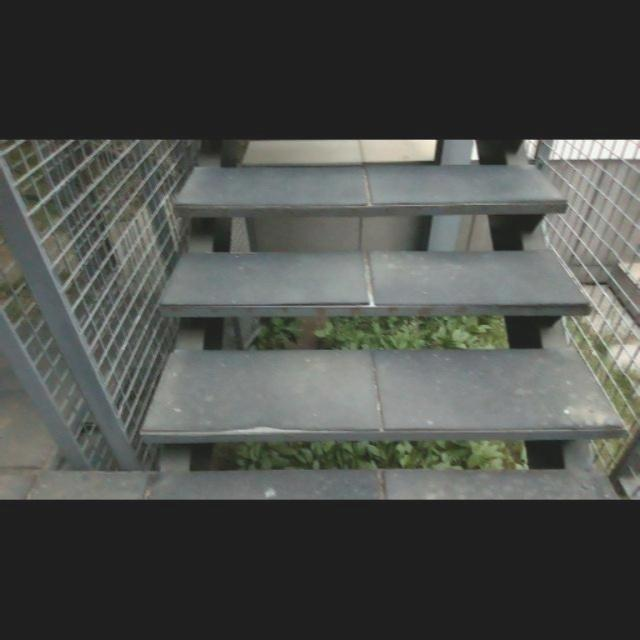stair: (161, 151, 609, 486)
